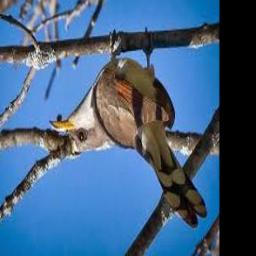Cuckoo: (49, 47, 206, 228)
